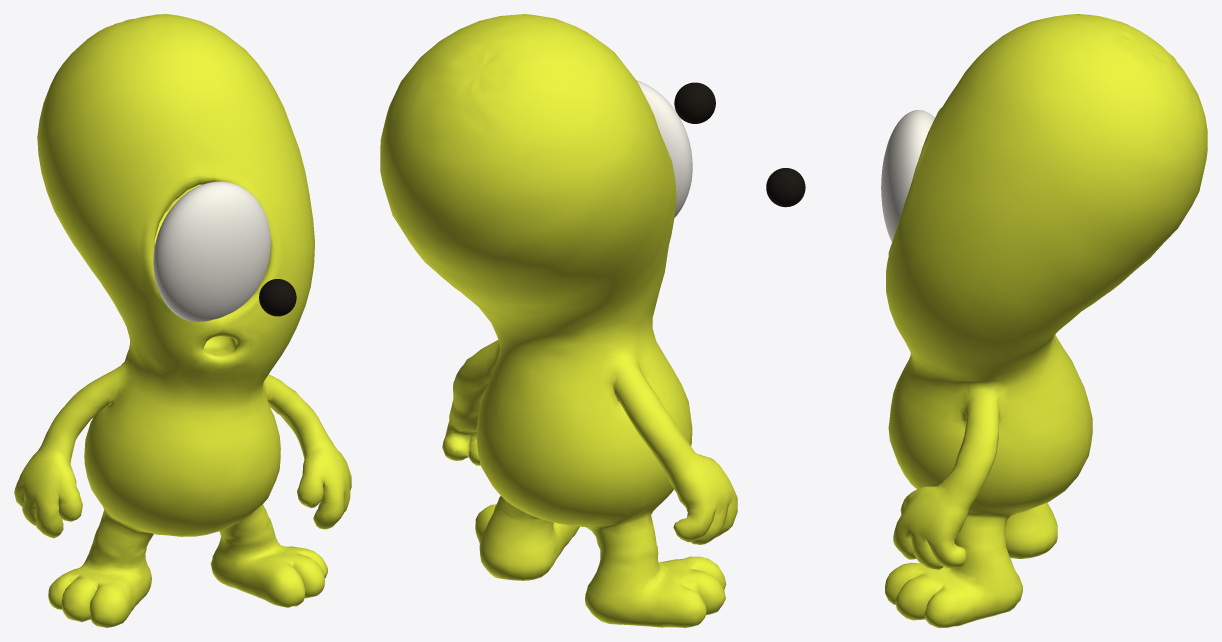
Rendered from LastShiftLimeAlien_Jump_Loop.fbx.
3 views of the same model, side by side, from view 1: azimuth 30°, elevation 25°; view 2: azimuth 150°, elevation 25°; view 3: azimuth 270°, elevation 25° (orthographic). The views are drawn at different scales.
Parts seen in each view (by area): view 1: LastShift_LimeAlien_RigifyMesh, Eye_Pupil_Rigify; view 2: LastShift_LimeAlien_RigifyMesh, Eye_Pupil_Rigify; view 3: LastShift_LimeAlien_RigifyMesh, Eye_Pupil_Rigify.
Part boxes in pixels (x1,y1,x2,y2): LastShift_LimeAlien_RigifyMesh: (14,14,351,627); Eye_Pupil_Rigify: (259,279,296,316); LastShift_LimeAlien_RigifyMesh: (380,14,737,627); Eye_Pupil_Rigify: (674,82,715,123); LastShift_LimeAlien_RigifyMesh: (881,14,1207,627); Eye_Pupil_Rigify: (766,168,805,207).
Bounding box in the file's own units: 0.5645 × 0.998 × 0.7186.
